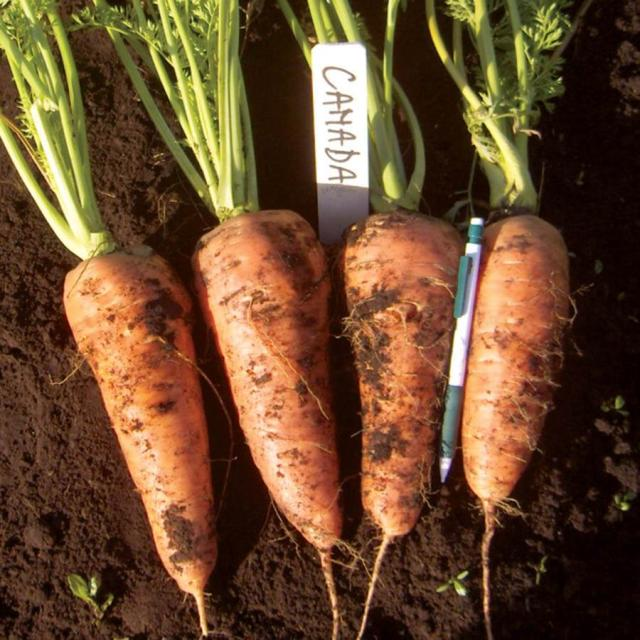Stale_Carrot: (102, 0, 351, 623), (0, 0, 217, 609)
